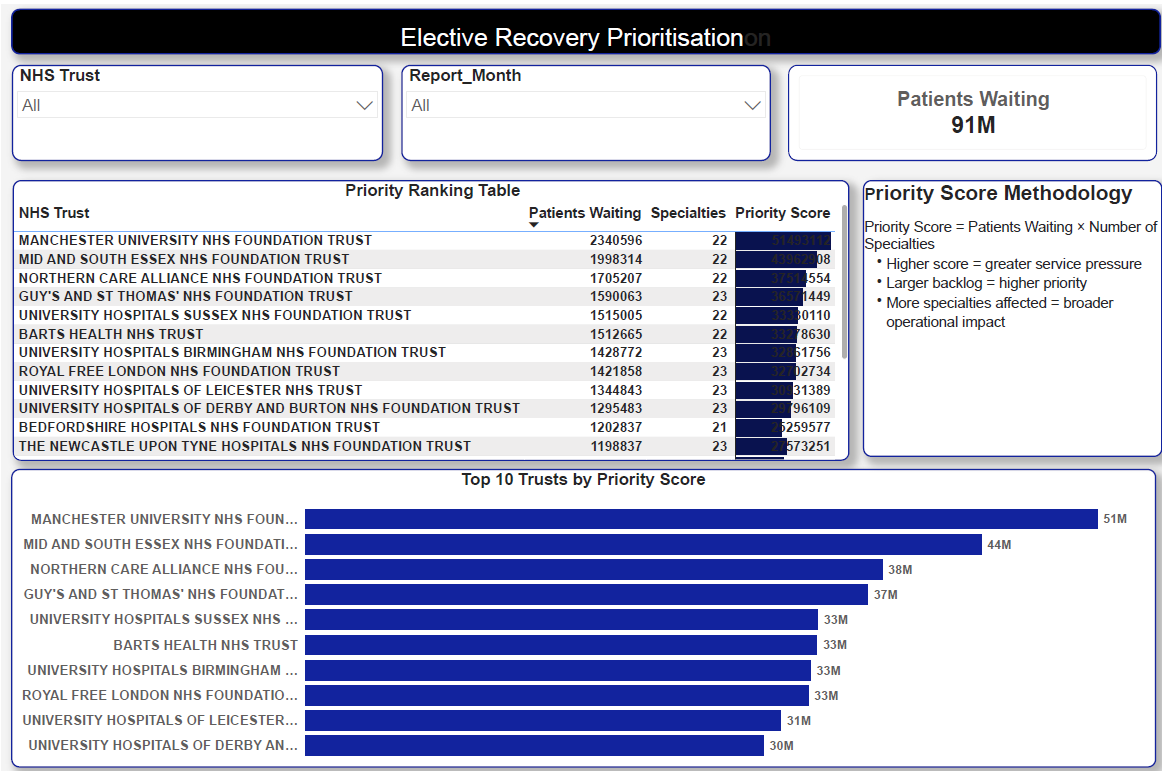

The page's visual inventory and layout, read from the dashboard file:
{"tool":"powerbi","page":{"name":"Priority Ranking","canvas":[1500,1000],"ordinal":2},"visuals":[{"type":"textbox","box":[12.4,4.9,1476.6,59.4],"z":0},{"type":"slicer","fields":{"Values":["Raw Data.Trust_Name"]},"box":[13.5,77.2,476.8,123.7],"z":1000},{"type":"slicer","fields":{"Values":["Raw Data.Report_Month"]},"box":[512.5,77.2,475,123.7],"z":2000},{"type":"cardVisual","fields":{"Data":["Caculated Measure.Total Patients Waiting"]},"box":[1009.8,77.2,474.5,123.7],"z":7000},{"type":"tableEx","title":"Priority Ranking Table","fields":{"Values":["Raw Data.NHS Trust","Caculated Measure.Patients Waiting","Caculated Measure.Specialties","Caculated Measure.Priority Score"]},"box":[14.2,225.5,1075.2,360.8],"z":7001},{"type":"clusteredBarChart","title":"Top 10 Trusts by Priority Score","fields":{"Category":["Raw Data.NHS Trust"],"Y":["Caculated Measure.Priority Score"]},"box":[11.9,595.7,1471.5,384.5],"z":7002},{"type":"textbox","box":[1106,225.5,384.5,356],"z":7003}]}

Visuals, with their boxes in screenshot pixels (x1, y1, x2, y2), scaled from the page's 1500x1000 canvas onto the 1162x771 screenshot:
textbox: Rect(10, 4, 1153, 50)
slicer - Raw Data.Trust_Name: Rect(10, 60, 380, 155)
slicer - Raw Data.Report_Month: Rect(397, 60, 765, 155)
cardVisual - Caculated Measure.Total Patients Waiting: Rect(782, 60, 1150, 155)
"Priority Ranking Table" tableEx: Rect(11, 174, 844, 452)
"Top 10 Trusts by Priority Score" clusteredBarChart: Rect(9, 459, 1149, 756)
textbox: Rect(857, 174, 1155, 448)
